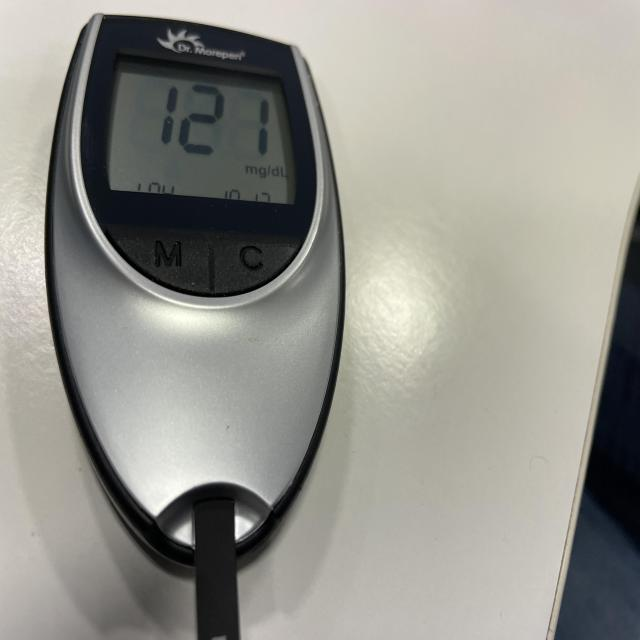gluco: (45, 14, 349, 636)
